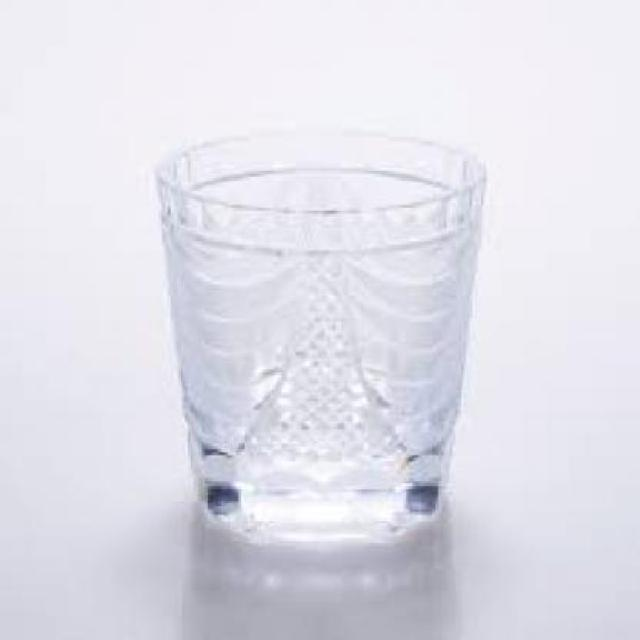kaca: (154, 131, 480, 540)
